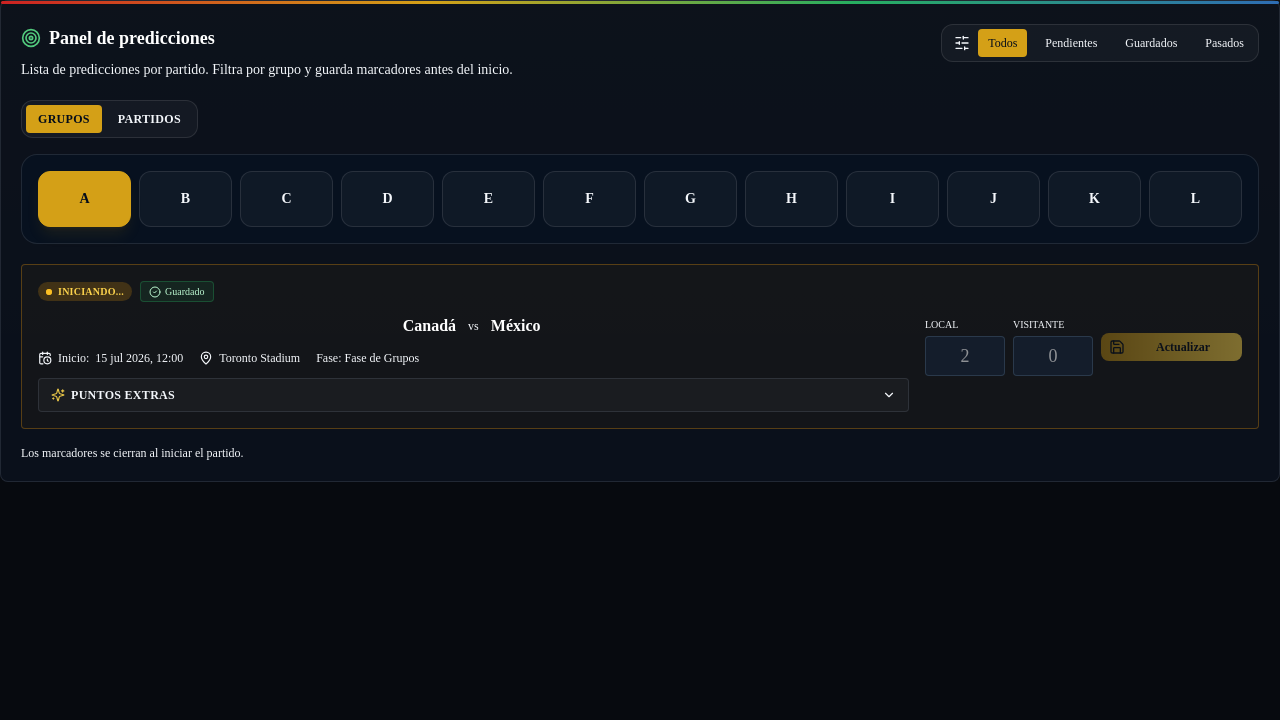
PredictionPanel › shows allSavedToday empty state in by-day+pending view
The image size is (1280, 720).
Expected: the text "Canadá" is shown, [403,317,456,334]
# Switch to by-day, then pending — all today's matches have predictions
Click the button "Partidos" at [149, 119], box [106,105,193,133]
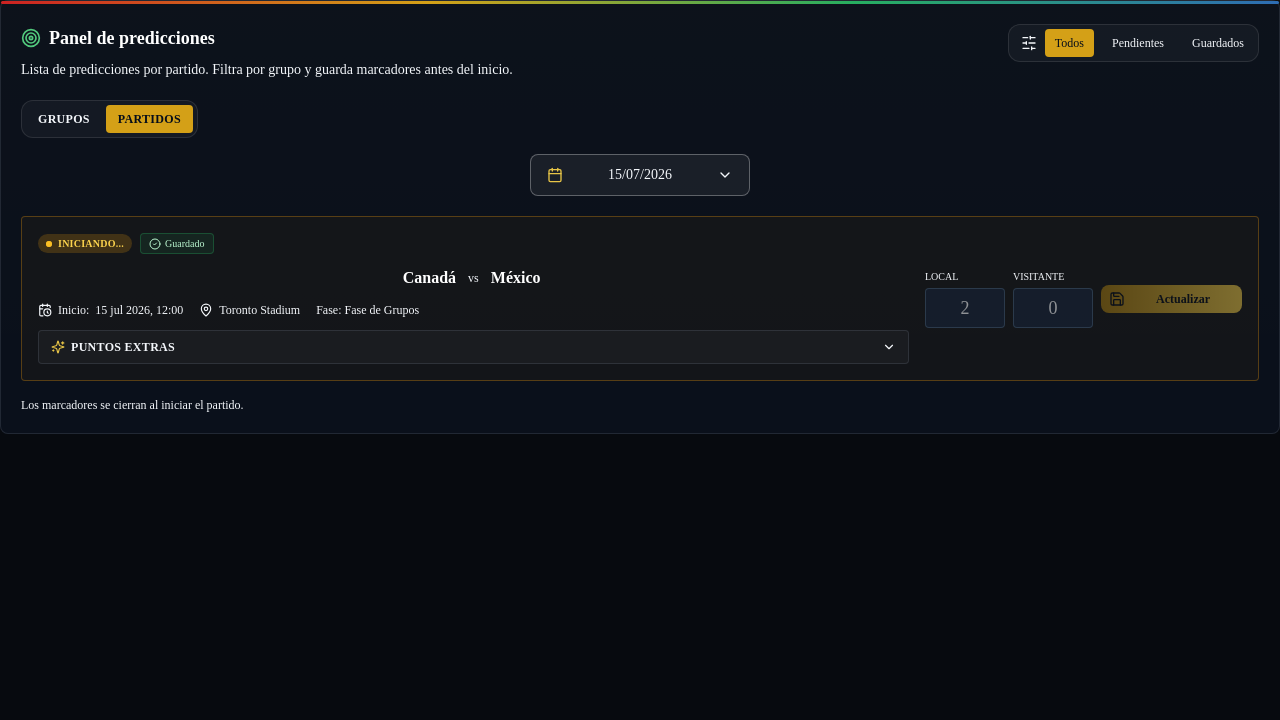
Click the button "Pendientes" at [1138, 43], box [1102,29,1174,57]
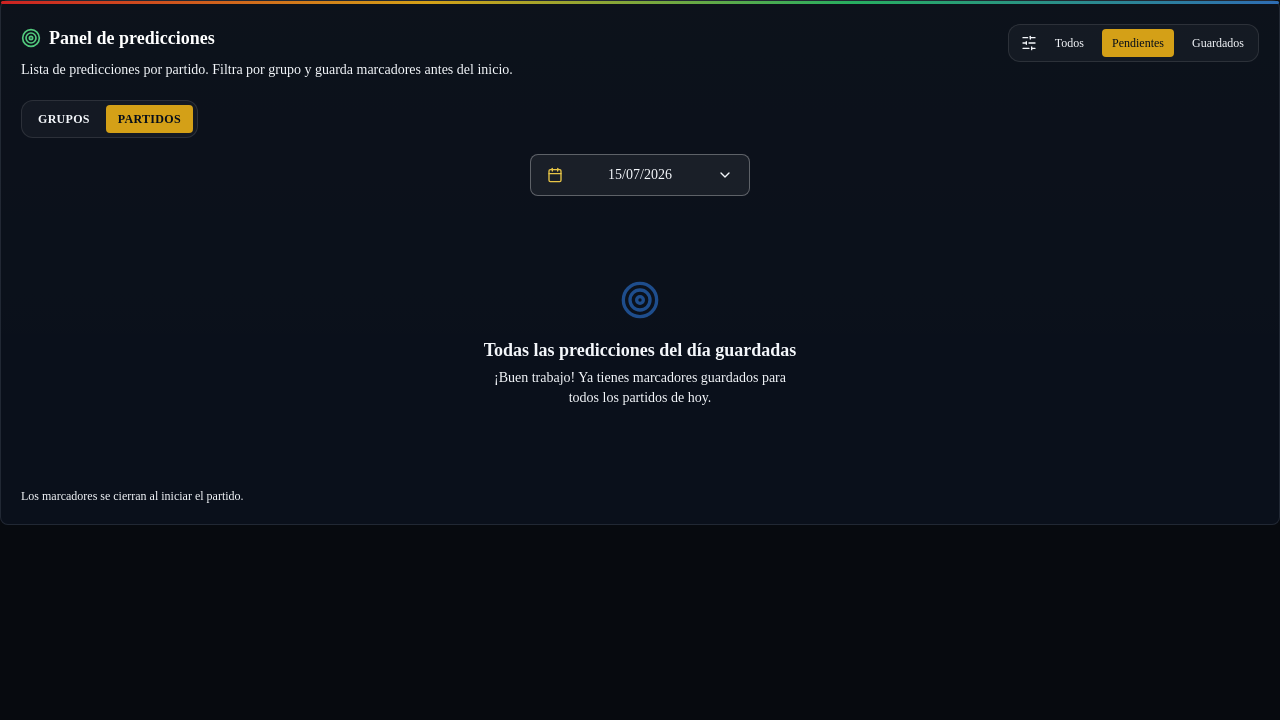
Result: the heading "Todas las predicciones del día guardadas" is shown at [484,336,796,364]
